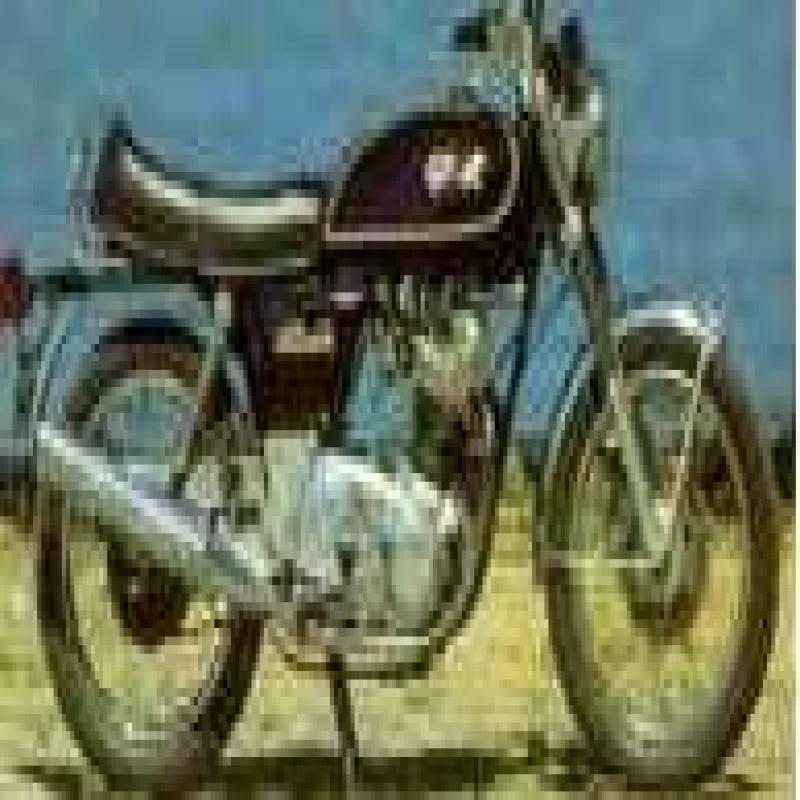bike: (30, 8, 800, 800)
